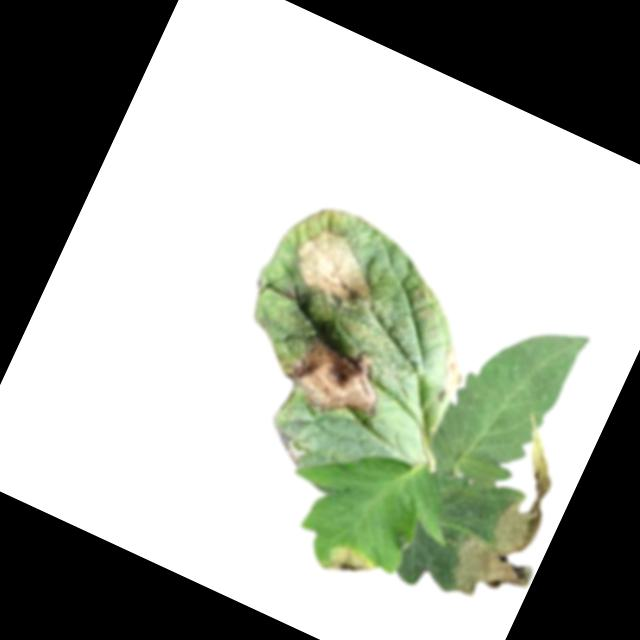Late_blight: (432, 406, 594, 619), (275, 321, 396, 428), (279, 214, 393, 321), (316, 537, 379, 589), (431, 346, 474, 400), (264, 425, 312, 470)
healthy: (420, 294, 592, 506)
